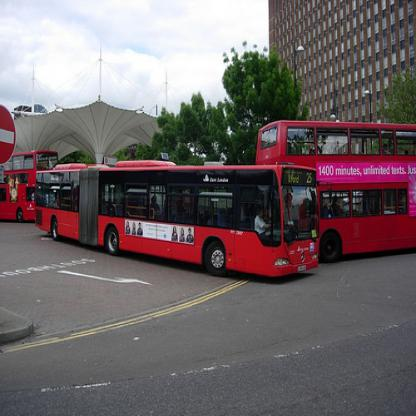bus: (35, 160, 319, 283), (256, 120, 415, 262), (0, 149, 59, 223)
